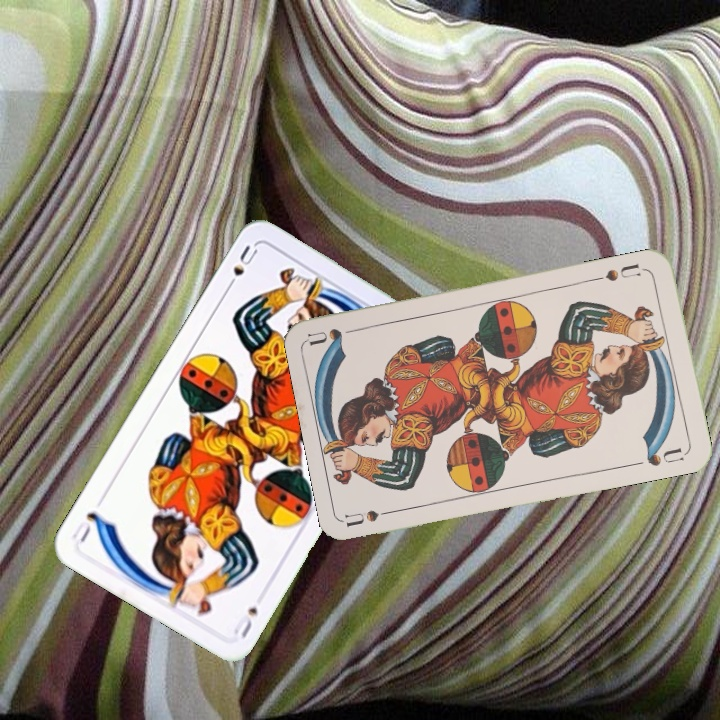SU: (222, 241, 261, 294), (343, 505, 402, 531), (229, 603, 261, 641), (601, 259, 643, 284)
